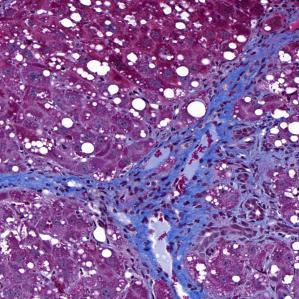fibrosis: (99, 161, 211, 267), (164, 108, 279, 198), (225, 194, 284, 253), (0, 166, 71, 194)
